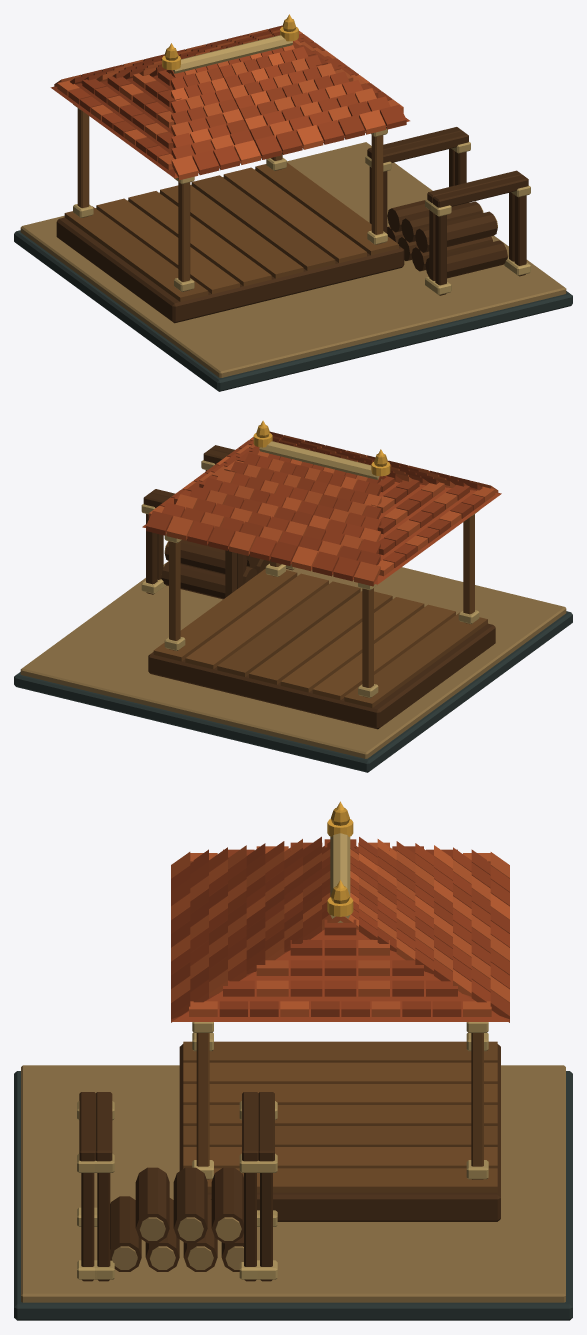
The picture shows the model from 3 angles, top to bottom: view 1: azimuth 30°, elevation 25°; view 2: azimuth 150°, elevation 25°; view 3: azimuth 270°, elevation 25°; orthographic projection. The views are drawn at different scales.
Parts seen in each view (by area): view 1: lumber_2_structure; view 2: lumber_2_structure, lumber_2_metal; view 3: lumber_2_structure, lumber_2_metal.
Boxes of the visible parts, left/top/right/bottom form: lumber_2_structure: left=14, top=19, right=572, bottom=391; lumber_2_structure: left=14, top=425, right=572, bottom=772; lumber_2_metal: left=253, top=420, right=390, bottom=476; lumber_2_structure: left=14, top=807, right=572, bottom=1320; lumber_2_metal: left=327, top=801, right=353, bottom=916.
Size of the model in its own units: 5.6 by 3.68 by 5.6.
